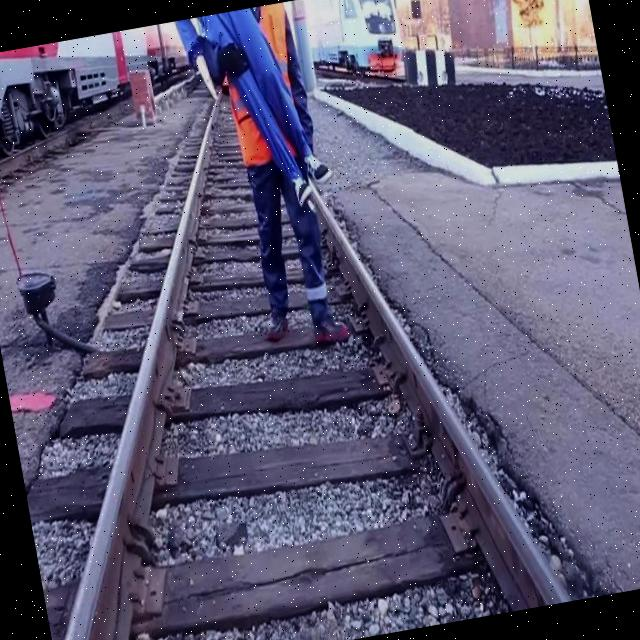vest: (215, 1, 313, 170)
